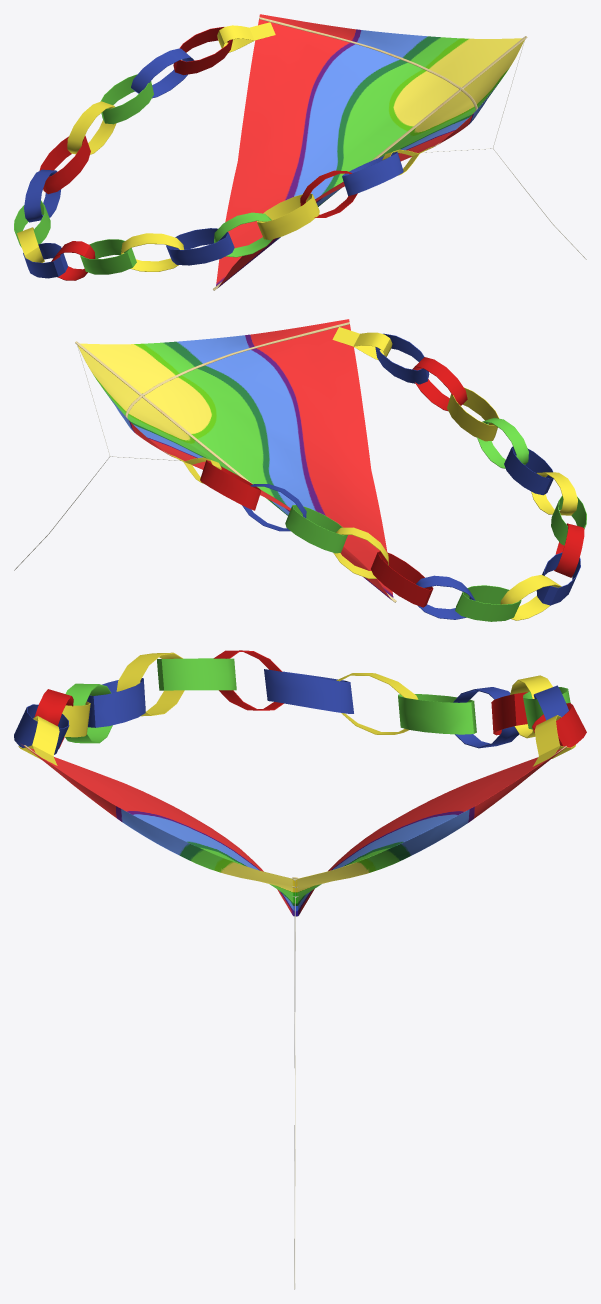
The model's file is kite.glb.
The picture shows the model from 3 angles, top to bottom: view 1: azimuth 30°, elevation 25°; view 2: azimuth 150°, elevation 25°; view 3: azimuth 270°, elevation 25°; orthographic projection. The views are drawn at different scales.
Visible parts, largest first — view 1: Object_2, Object_3, Object_4; view 2: Object_2, Object_3, Object_4; view 3: Object_3, Object_2.
Boxes of the visible parts, box(x1,y1,x2,y2) form: Object_2: box(216, 14, 524, 288); Object_3: box(14, 22, 433, 280); Object_4: box(213, 17, 527, 290); Object_2: box(77, 319, 393, 599); Object_3: box(169, 327, 586, 621); Object_4: box(75, 322, 396, 602); Object_3: box(14, 650, 586, 766); Object_2: box(21, 744, 568, 916).
Size of the model in its own units: 1.34 by 0.5535 by 0.7826.
Materials: 4 (3 with a texture image).
